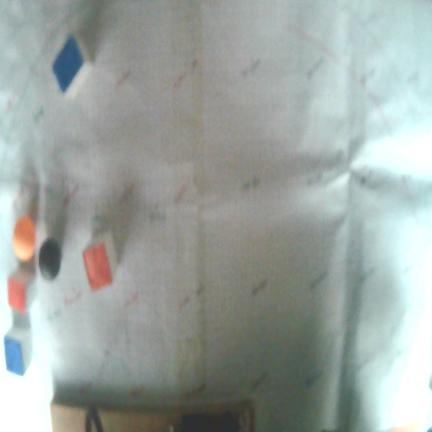circle_blue: (39, 238, 61, 280)
circle_orange: (13, 216, 35, 261)
rectangle_blue: (52, 33, 83, 92)
rectangle_orange: (7, 280, 26, 310)
square_blue: (4, 336, 24, 375)
square_orange: (83, 243, 113, 292)
